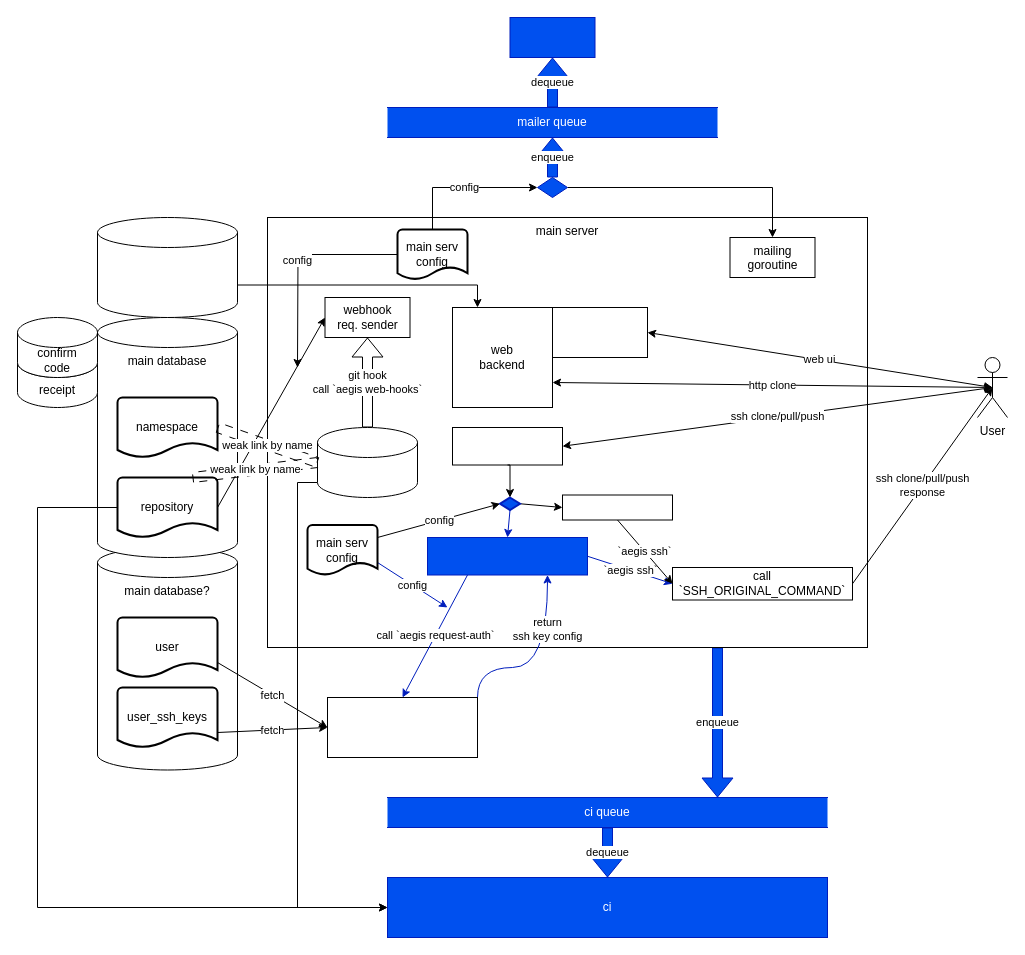
Image size: 1025x955. Some labels were removed from this diagram. The centre of each missing label's shape, as x and y in pixels:
auth: point 402,727
authorized_keys: point 617,507
dedicated mailer: point 552,37
repository data storage: point 367,462
session: point 167,267
ssh frontend: point 507,445
sshd_config AuthorizedKeysCommand: point 507,555
web frontend: point 600,332
